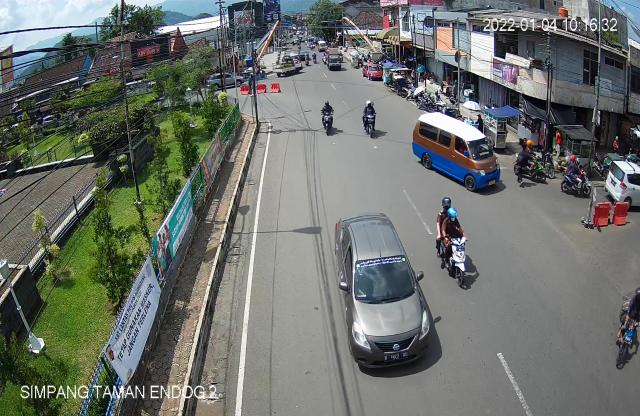Mobil: (330, 211, 440, 384), (408, 107, 506, 193), (606, 157, 640, 208)
Motor: (435, 194, 476, 294), (615, 281, 640, 371), (512, 137, 550, 185), (557, 150, 594, 198), (362, 96, 382, 144), (319, 97, 338, 139)
